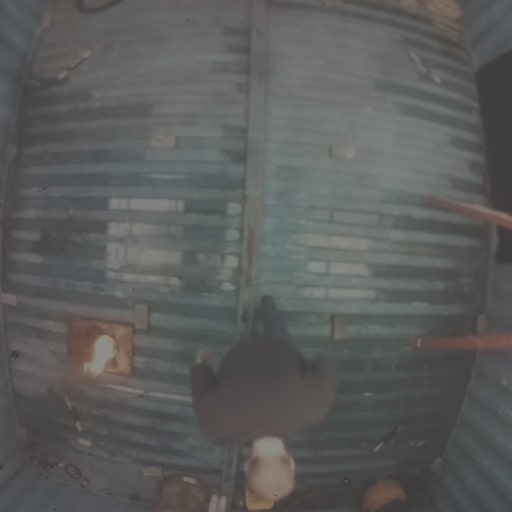Fire: (84, 334, 116, 374)
